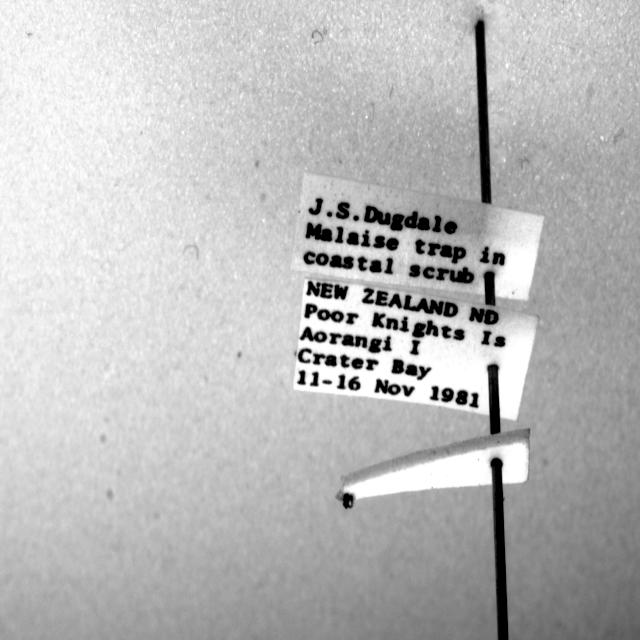typed_label: (294, 279, 538, 420), (291, 172, 544, 300)
